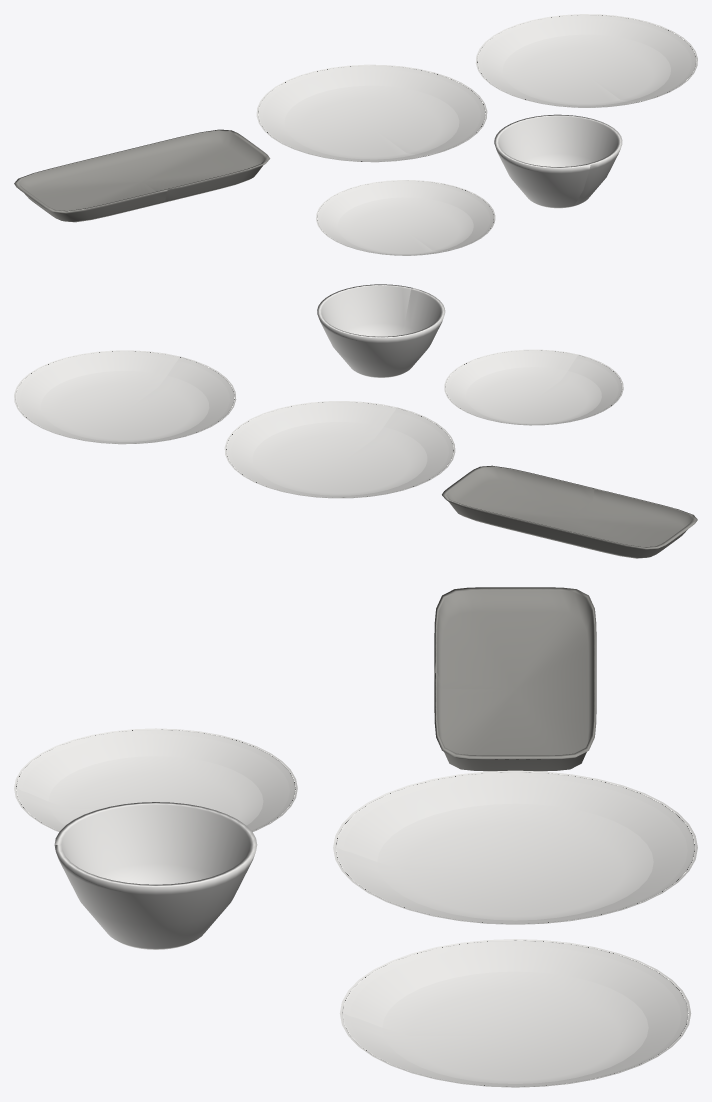
Rendered from BLC-03.glb.
The picture shows the model from 3 angles, top to bottom: view 1: azimuth 30°, elevation 25°; view 2: azimuth 150°, elevation 25°; view 3: azimuth 270°, elevation 25°; orthographic projection. The views are drawn at different scales.
Size of the model in its own units: 0.88 by 0.07 by 0.506.
5 materials, 1 textured.
